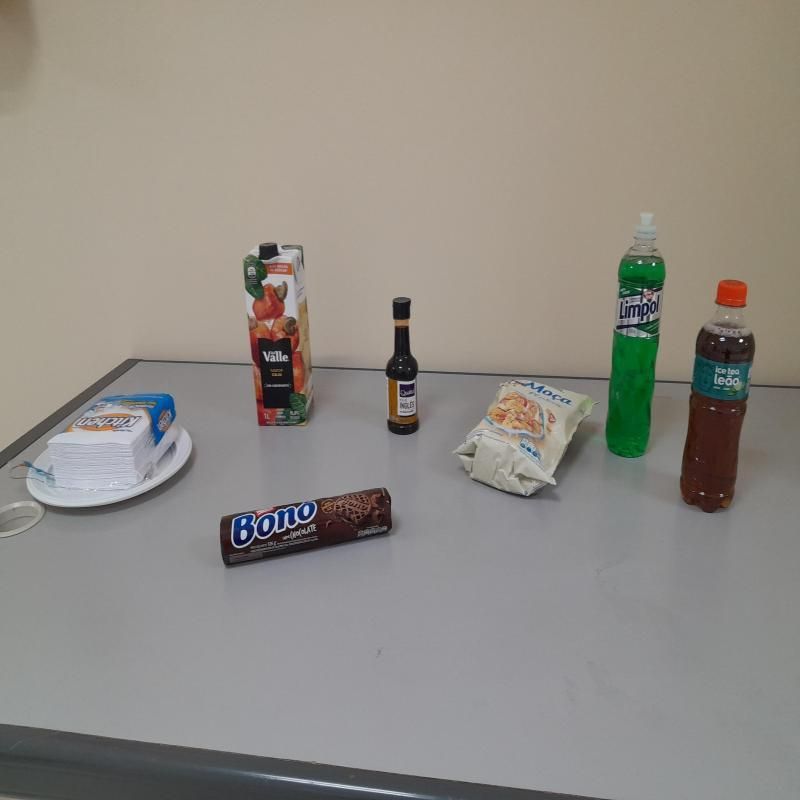Cleaner: (604, 214, 666, 462)
Cookies: (219, 489, 395, 570)
CornFlakes: (455, 380, 590, 500)
EnglishSauce: (388, 294, 420, 438)
IceTea: (681, 280, 756, 517)
